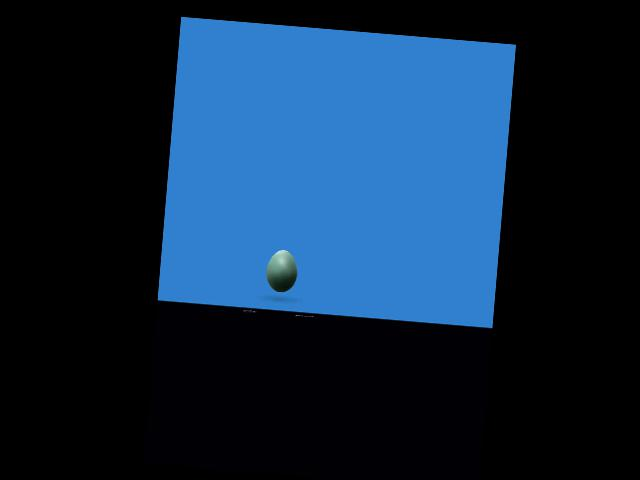egg: (265, 248, 299, 293)
